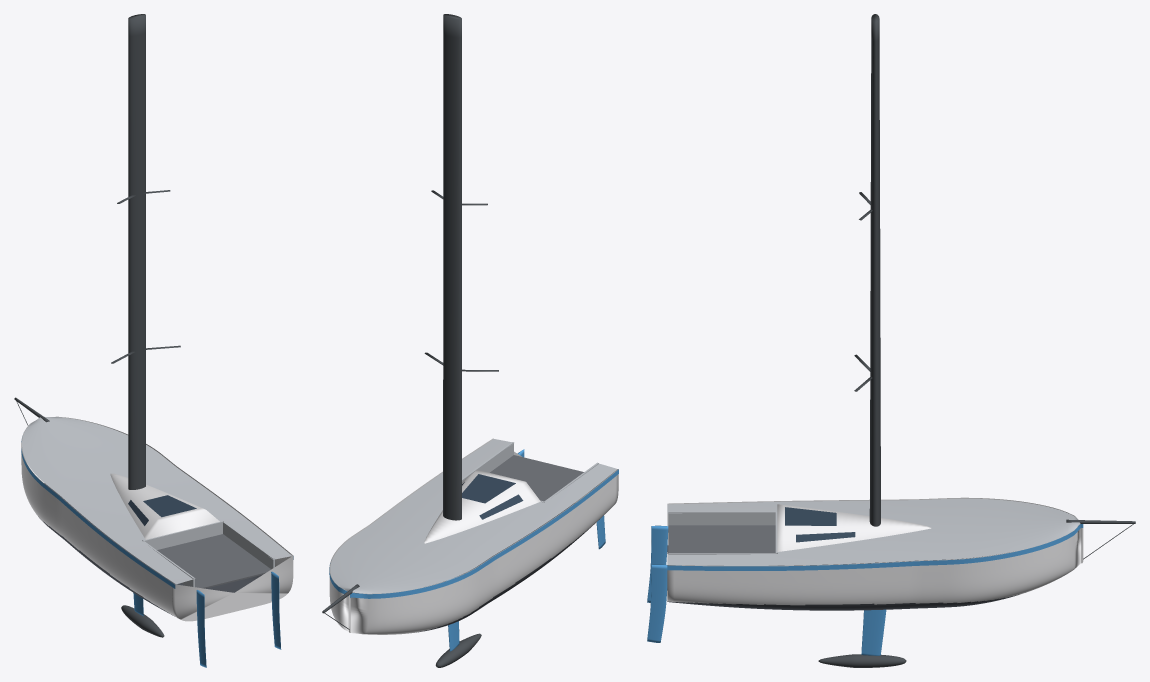
File: class40.glb
The picture shows the model from 3 angles, left to right: view 1: azimuth 30°, elevation 25°; view 2: azimuth 150°, elevation 25°; view 3: azimuth 270°, elevation 25°; orthographic projection. The views are drawn at different scales.
Parts seen in each view (by area): view 1: pont, coque, pivot_mat, cockpit, rouf, cloison, fond, bande, hiloire.001, vitre.002, app_safran_tribord, app_safran_babord (+1 smaller); view 2: pont, coque, pivot_mat, rouf, cockpit, bande, vitre.002, fond, app_quille_bulbe, hiloire.001; view 3: coque, pont, pivot_mat, cockpit, rouf, bande, fond, hiloire, app_safran_tribord, app_quille, app_quille_bulbe, vitre.002 (+1 smaller).
Part boxes in pixels (bbox=[...]): pont: bbox=[22, 416, 291, 584]; coque: bbox=[21, 416, 293, 621]; pivot_mat: bbox=[128, 14, 145, 489]; cockpit: bbox=[157, 534, 270, 588]; rouf: bbox=[110, 473, 219, 539]; cloison: bbox=[142, 521, 223, 549]; fond: bbox=[38, 483, 261, 616]; bande: bbox=[21, 441, 293, 588]; hiloire.001: bbox=[223, 521, 274, 569]; vitre.002: bbox=[143, 495, 196, 517]; app_safran_tribord: bbox=[271, 571, 281, 649]; app_safran_babord: bbox=[196, 590, 206, 667]; pont: bbox=[330, 439, 617, 593]; coque: bbox=[329, 438, 618, 634]; pivot_mat: bbox=[443, 14, 461, 520]; rouf: bbox=[424, 469, 540, 543]; cockpit: bbox=[490, 455, 583, 501]; bande: bbox=[329, 469, 618, 598]; vitre.002: bbox=[462, 474, 515, 503]; fond: bbox=[418, 503, 599, 632]; app_quille_bulbe: bbox=[435, 633, 481, 667]; hiloire.001: bbox=[462, 442, 513, 481]; coque: bbox=[667, 497, 1083, 605]; pont: bbox=[667, 498, 1080, 565]; pivot_mat: bbox=[869, 14, 880, 563]; cockpit: bbox=[668, 525, 775, 553]; rouf: bbox=[777, 504, 931, 552]; bande: bbox=[667, 524, 1083, 570]; fond: bbox=[667, 545, 1019, 610]; hiloire: bbox=[668, 511, 775, 525]; app_safran_tribord: bbox=[647, 564, 667, 642]; app_quille: bbox=[861, 609, 886, 655]; app_quille_bulbe: bbox=[818, 654, 906, 667]; vitre.002: bbox=[785, 507, 836, 525].
Size of the model in its own units: 4.51 by 20.98 by 14.33.
